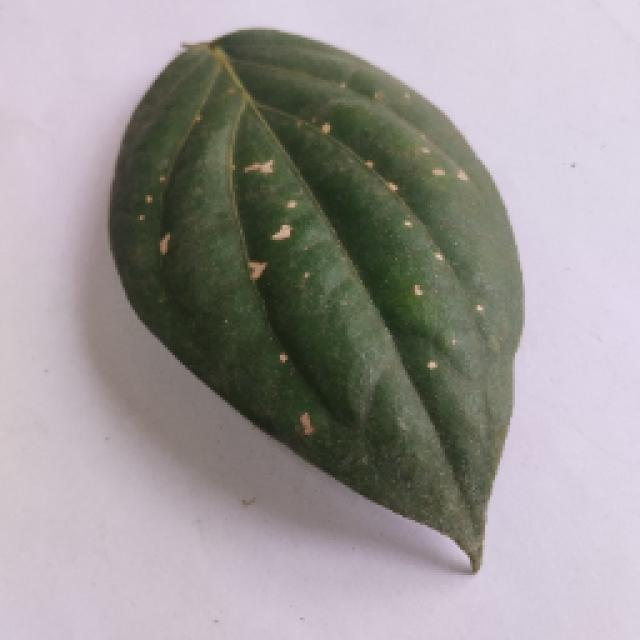pollu-disease: (95, 32, 540, 572)
